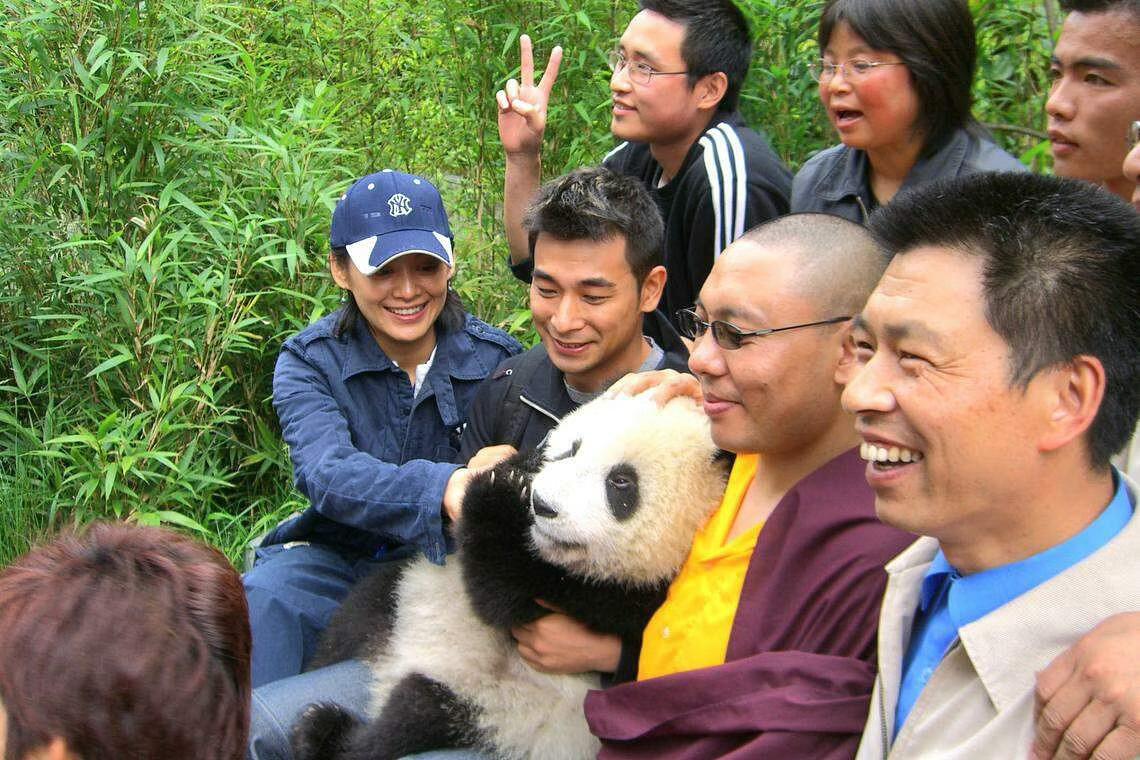Giant panda: (522, 354, 713, 583)
